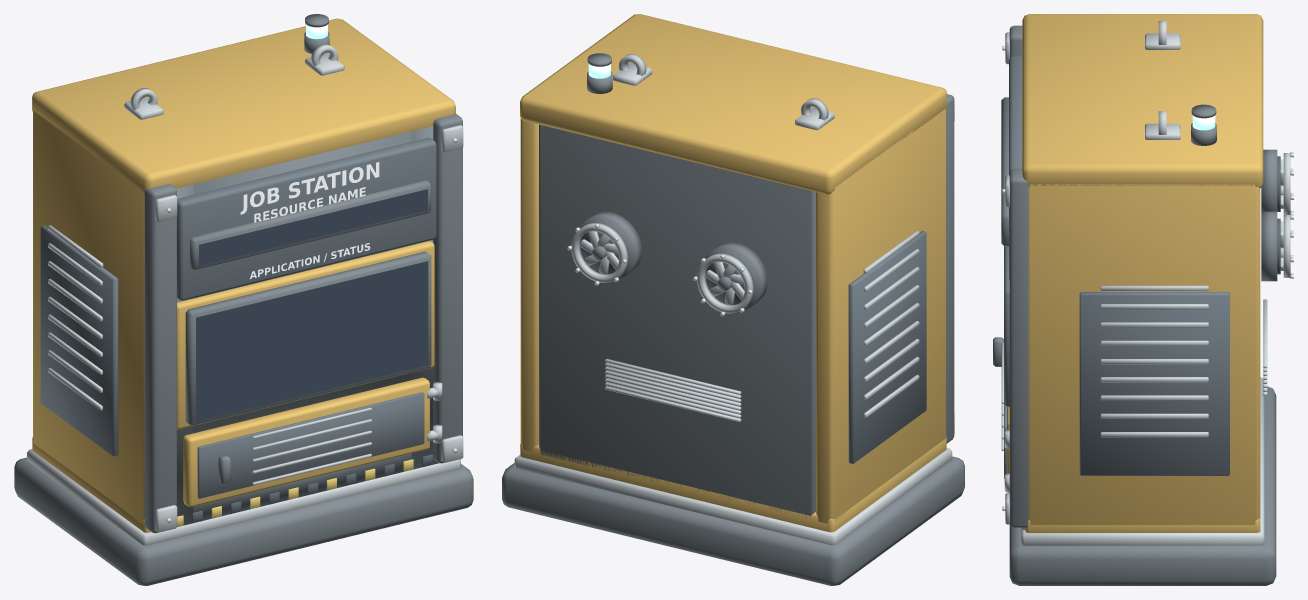
The model's file is job_station_ultra.glb.
3 views of the same model, side by side, from view 1: azimuth 30°, elevation 25°; view 2: azimuth 150°, elevation 25°; view 3: azimuth 270°, elevation 25° (orthographic). The views are drawn at different scales.
Parts seen in each view (by area): view 1: Roof_gold, LiveViewSurface_glass, SideWall_gold, Skid_frame, CornerPost_frame, FrontHeader_graphite, SideServicePanel_graphite, DoorMoving_Inset_graphite, DoorMoving_Panel_gold, SkidDeck_steel, LiveViewSurfaceFrame_frame, ResourceNameSurface_glass (+15 smaller); view 2: BackWall_frame, Roof_gold, SideWall_gold, Skid_frame, SideServicePanel_graphite, SkidDeck_steel, KickPlate_gold, RearFan_steel, RearVent_steel, SideLouver_steel, CornerPost_frame, RearFan_frame (+3 smaller); view 3: SideWall_gold, Roof_gold, SideServicePanel_graphite, Skid_frame, CornerPost_frame, SideLouver_steel, SkidDeck_steel, RearFan_frame, KickPlate_gold, FrontHeader_graphite, RearFan_steel, ResourceNameSurfaceFrame_frame (+7 smaller).
Boxes of the visible parts, x1,y1,x2,y2 form: Roof_gold: [32, 18, 455, 194]; LiveViewSurface_glass: [196, 261, 428, 421]; SideWall_gold: [33, 110, 144, 523]; Skid_frame: [14, 457, 473, 585]; CornerPost_frame: [144, 114, 462, 533]; FrontHeader_graphite: [177, 137, 436, 300]; SideServicePanel_graphite: [40, 225, 118, 456]; DoorMoving_Inset_graphite: [197, 392, 424, 498]; DoorMoving_Panel_gold: [183, 377, 429, 506]; SkidDeck_steel: [27, 449, 460, 545]; LiveViewSurfaceFrame_frame: [185, 251, 431, 425]; ResourceNameSurface_glass: [199, 189, 427, 265]; BackWall_frame: [539, 124, 815, 518]; Roof_gold: [520, 14, 946, 194]; SideWall_gold: [520, 109, 945, 523]; Skid_frame: [502, 456, 964, 585]; SideServicePanel_graphite: [848, 230, 926, 463]; SkidDeck_steel: [514, 447, 952, 545]; KickPlate_gold: [520, 437, 946, 532]; RearFan_steel: [571, 222, 753, 313]; RearVent_steel: [605, 359, 741, 422]; SideLouver_steel: [863, 231, 919, 417]; CornerPost_frame: [946, 94, 954, 443]; RearFan_frame: [579, 211, 767, 311]; SideWall_gold: [1028, 184, 1260, 524]; Roof_gold: [1022, 14, 1263, 188]; SideServicePanel_graphite: [1079, 292, 1229, 475]; Skid_frame: [1009, 386, 1276, 585]; CornerPost_frame: [1009, 25, 1028, 527]; SideLouver_steel: [1100, 285, 1208, 437]; SkidDeck_steel: [1021, 377, 1264, 545]; RearFan_frame: [1261, 149, 1277, 281]; KickPlate_gold: [1025, 518, 1260, 532]; FrontHeader_graphite: [1009, 56, 1022, 279]; RearFan_steel: [1280, 153, 1290, 277]; ResourceNameSurfaceFrame_frame: [1001, 97, 1008, 246].
Bounding box in the file's own units: 2 × 2.48 × 1.51.
